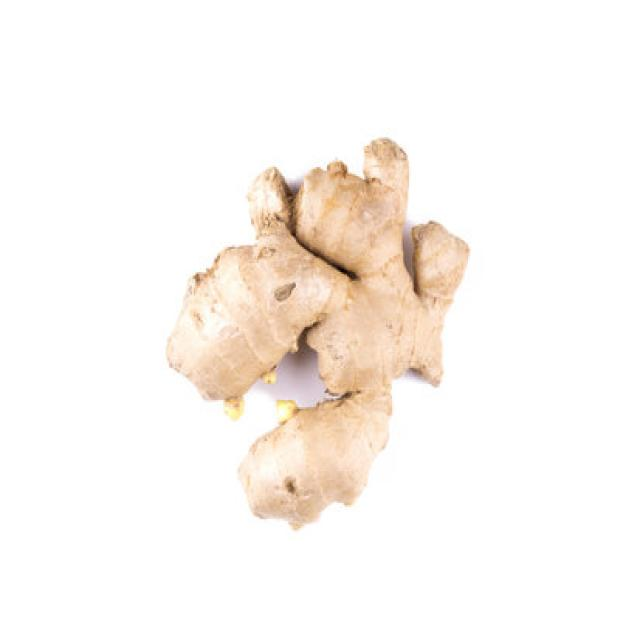Ginger: (169, 133, 475, 527)
